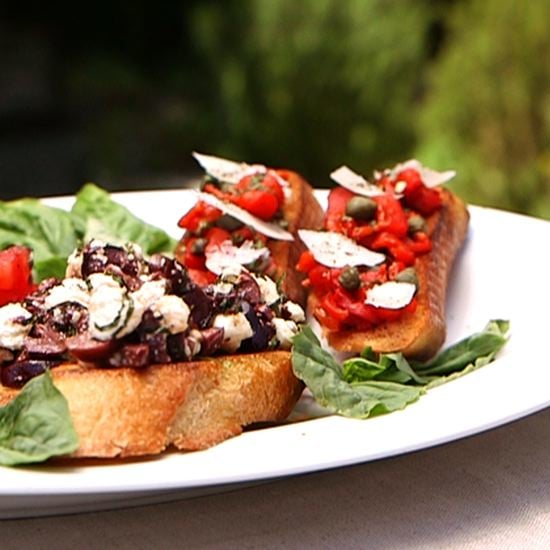chopped lettuce: (301, 346, 509, 413), (8, 199, 161, 261)
slice of bread: (52, 350, 300, 459)
